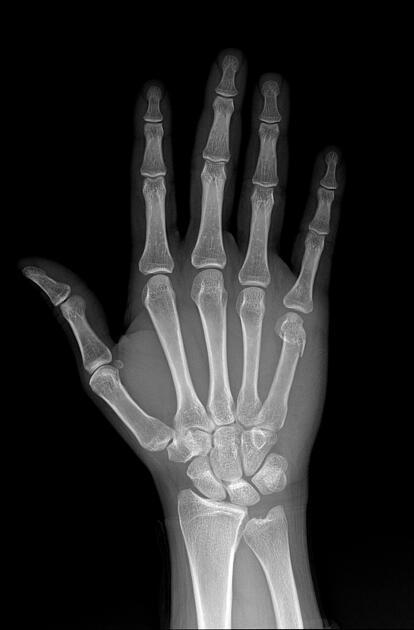fractured: (275, 320, 310, 362)
